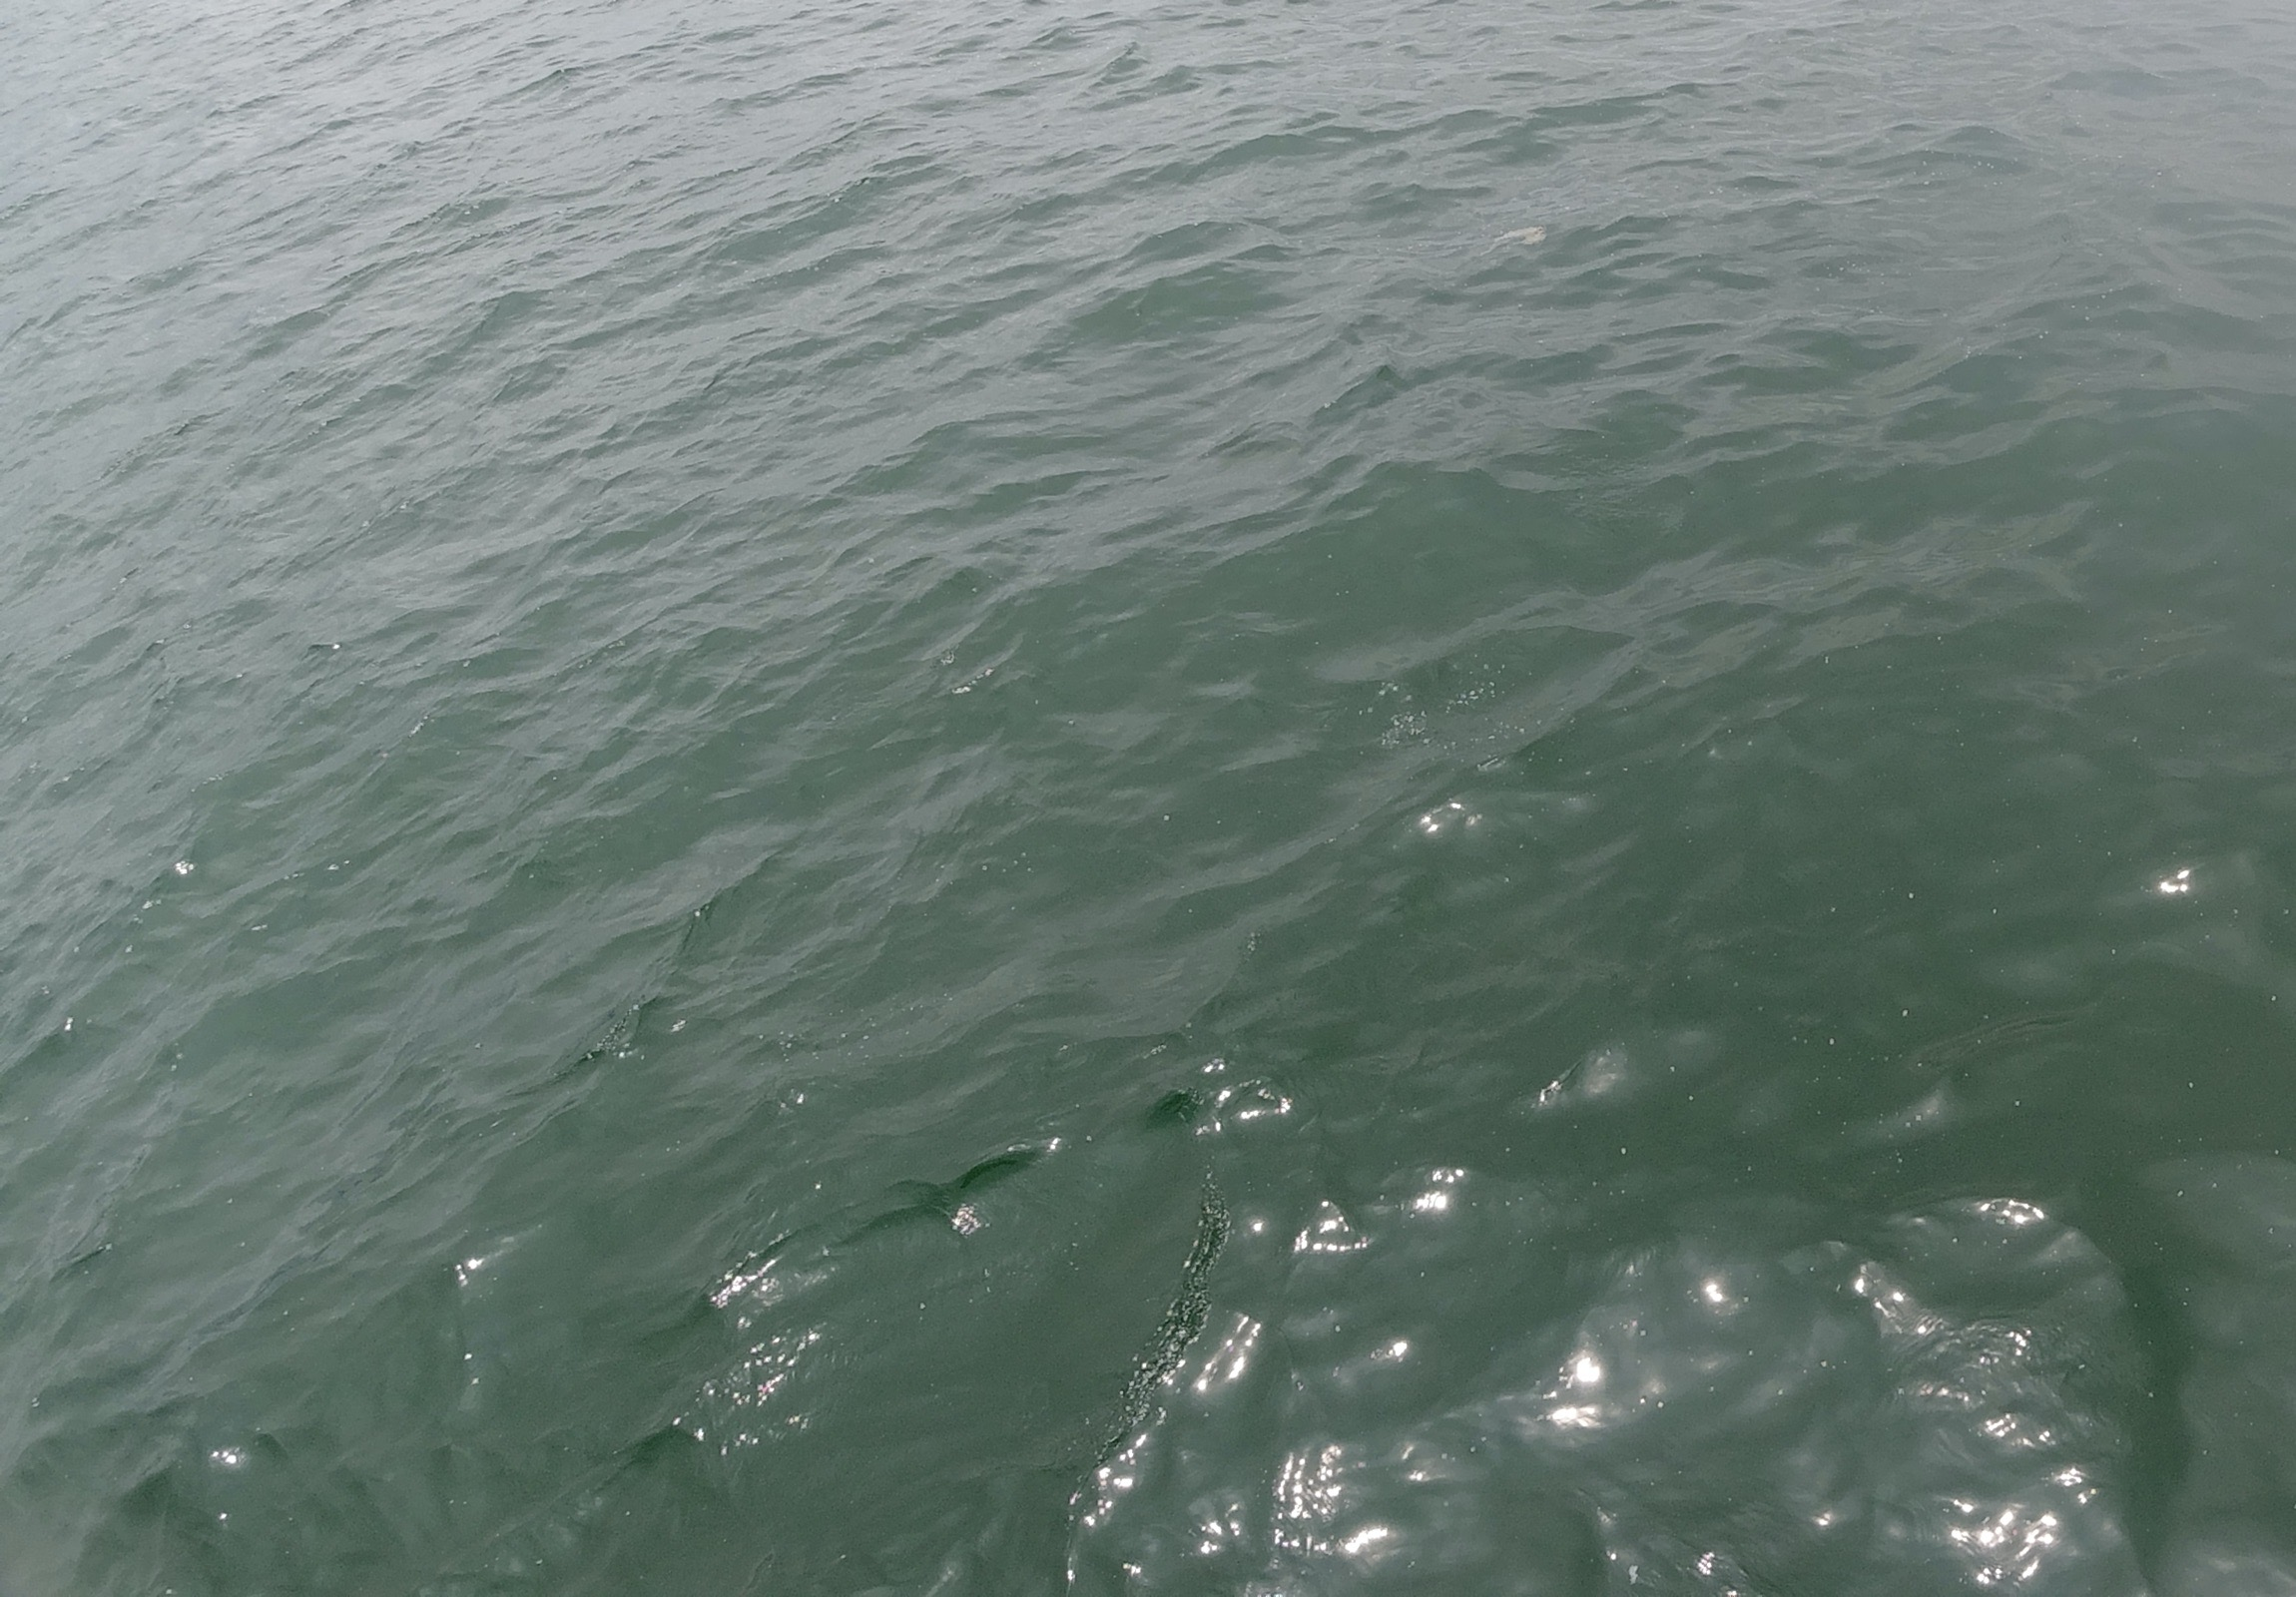plastic: (1467, 222, 1553, 267)
